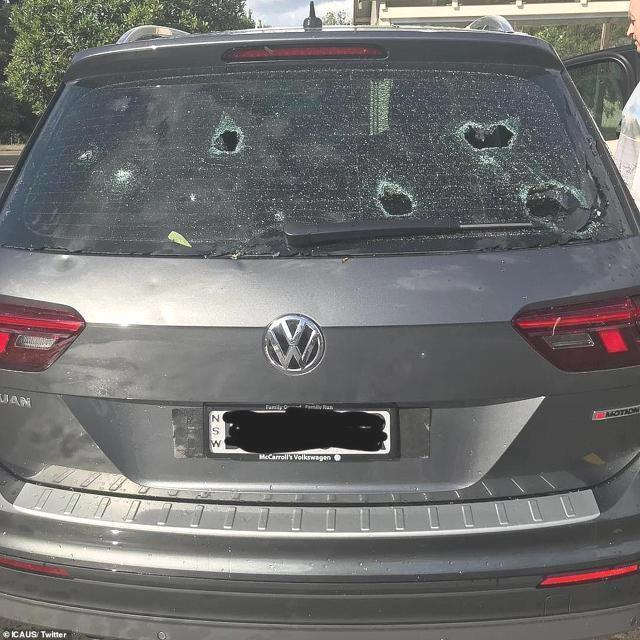minor: (36, 256, 101, 275), (145, 281, 161, 297)
severe: (519, 181, 602, 237), (203, 107, 260, 173), (445, 118, 523, 164), (369, 174, 419, 222), (111, 162, 139, 193)
